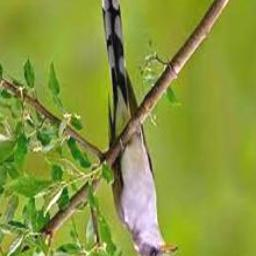Cuckoo: (101, 0, 178, 256)
